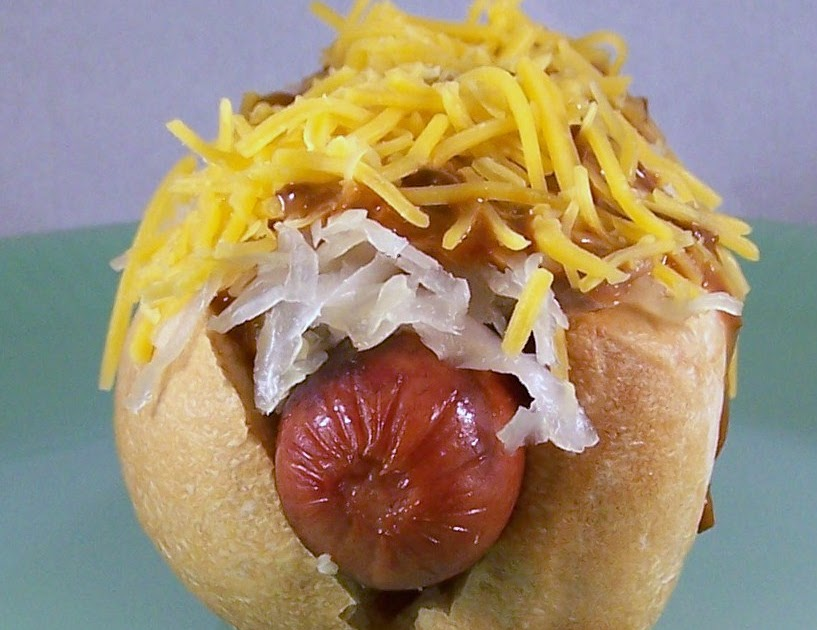hamburger_buns: (62, 237, 777, 630)
